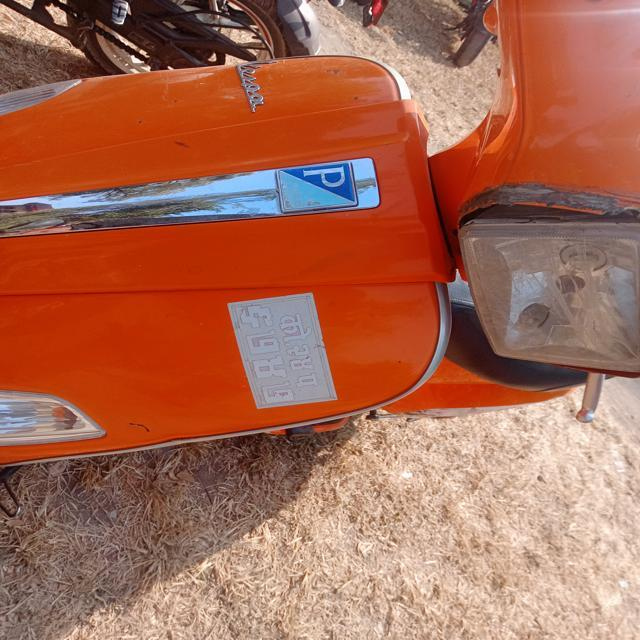license_plate: (215, 283, 347, 413)
